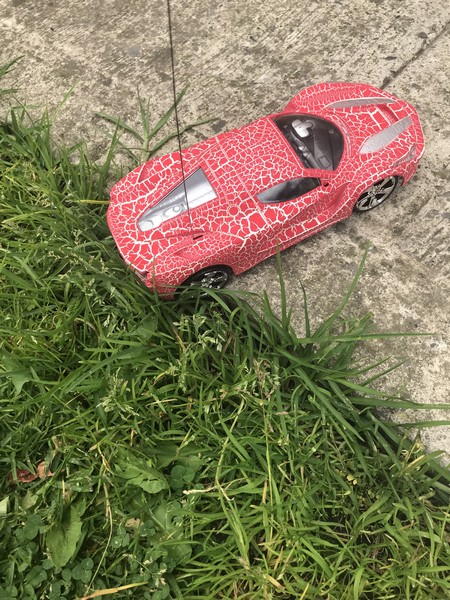RC: (104, 79, 425, 300)
